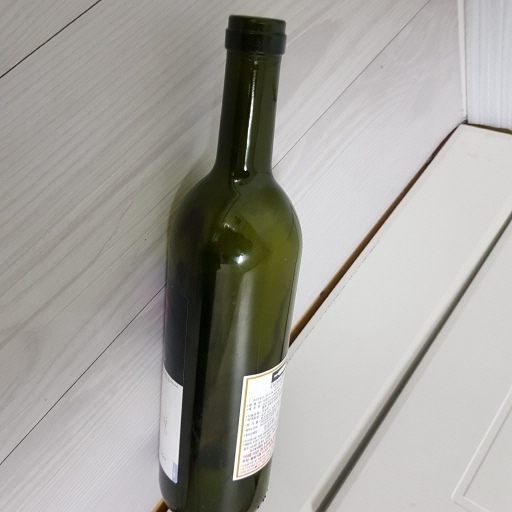Glass_2: (158, 7, 303, 512)
